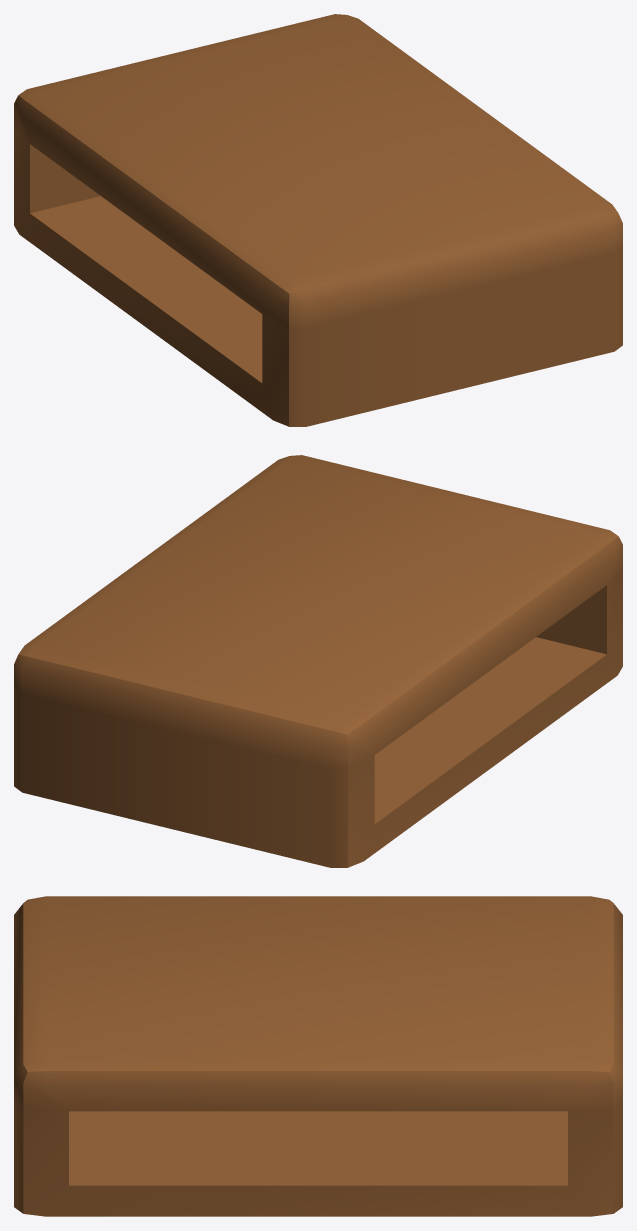
File: Coffee table.fbx
3 renders of one model, top to bottom at view 1: azimuth 30°, elevation 25°; view 2: azimuth 150°, elevation 25°; view 3: azimuth 270°, elevation 25°, orthographic. The views are drawn at different scales.
Parts seen in each view (by area): view 1: Cube; view 2: Cube; view 3: Cube.
Part boxes in pixels (left/top/right/bottom): Cube: left=14, top=14, right=622, bottom=426; Cube: left=14, top=455, right=622, bottom=867; Cube: left=14, top=896, right=622, bottom=1216.
Size of the model in its own units: 168 by 64.05 by 239.
